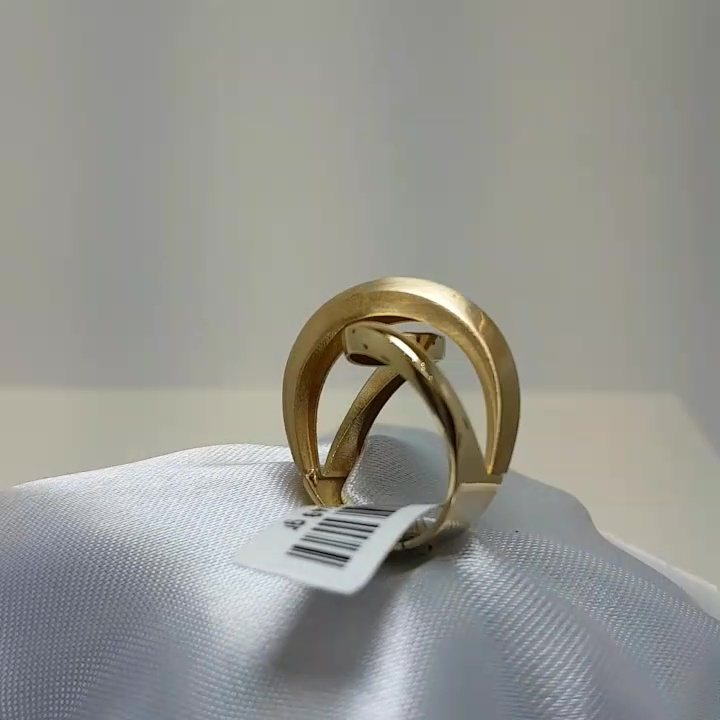Ring 3: (222, 252, 530, 541)
